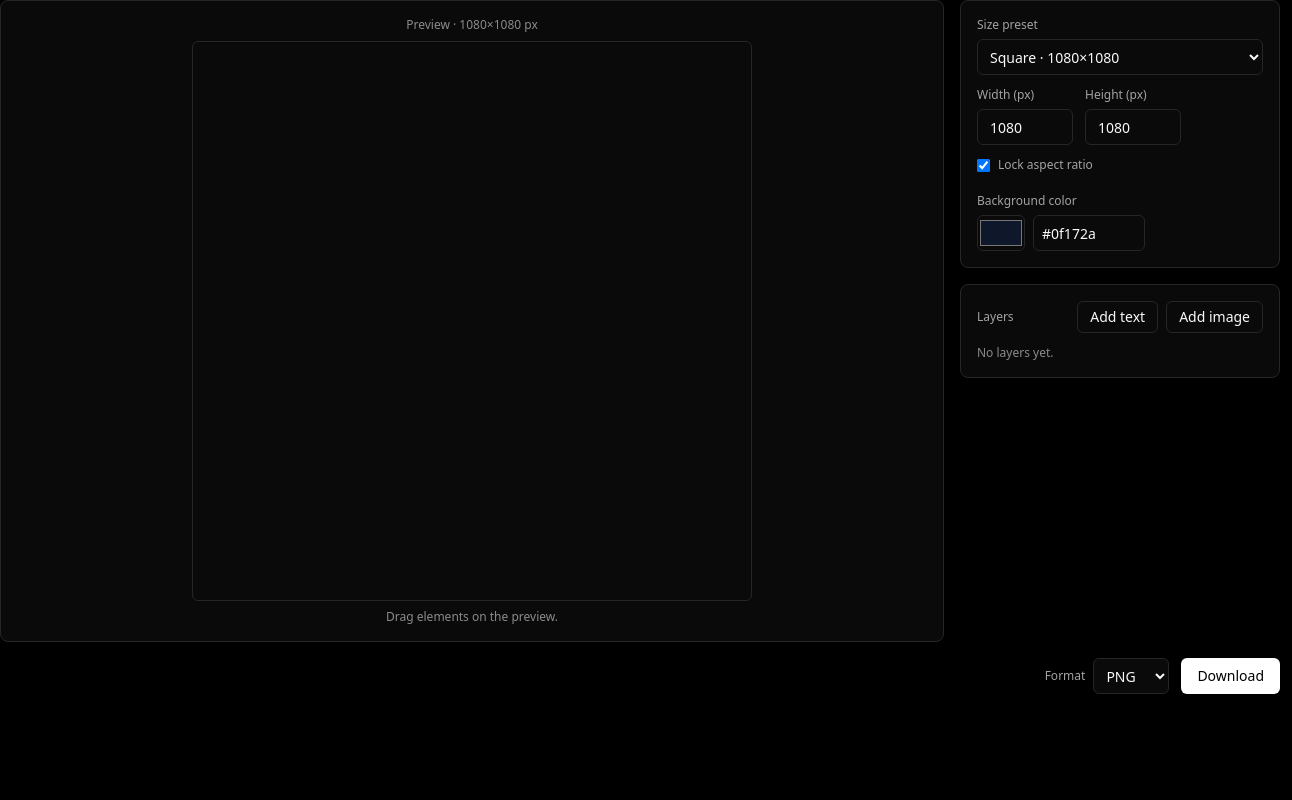
Test: BannerMakerTool › adds a text layer and edits its content
Click the button "Add text" at (1118, 317), box [1077, 301, 1158, 333]
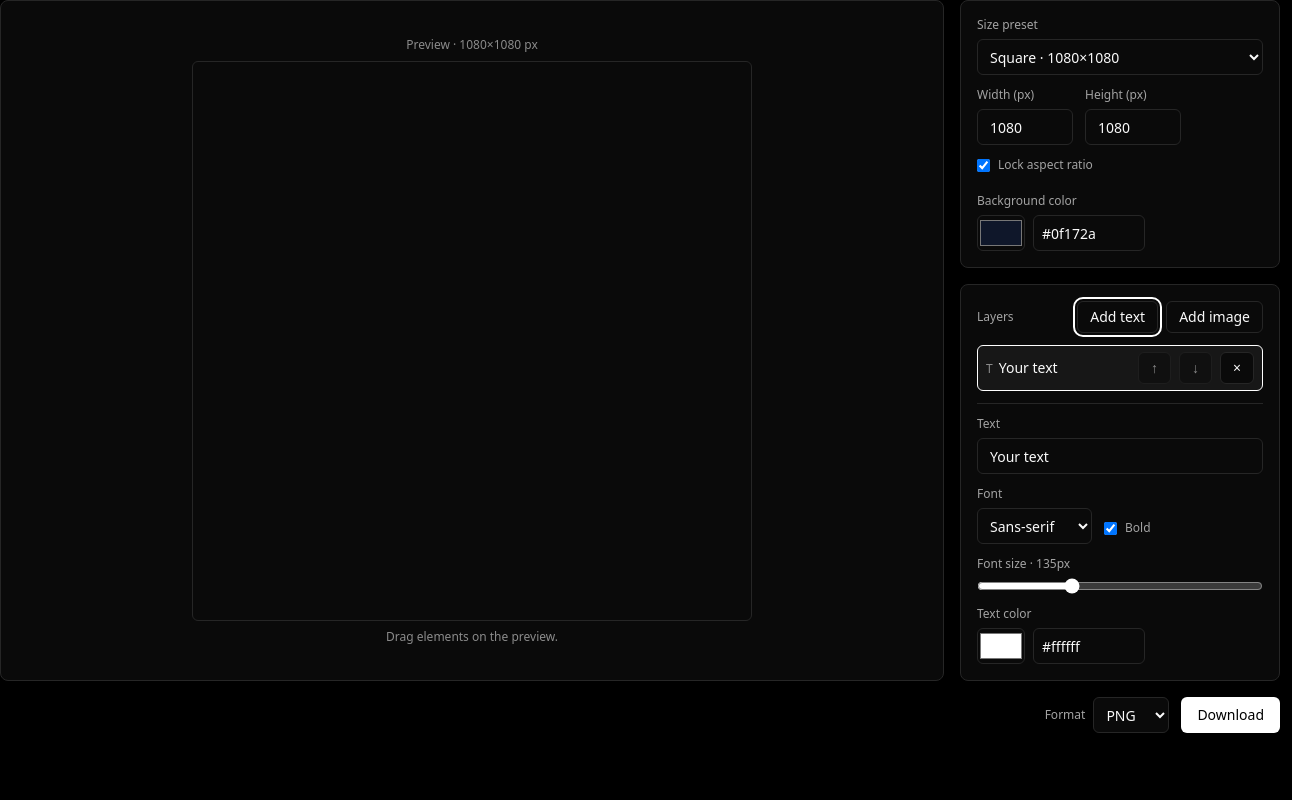
Now the button "Your text" is shown, box [986, 358, 1130, 378]
Now the field labelled "Text" holds "Your text"
Replace the text in the field labelled "Text" with "Big sale" at (1120, 456), box [977, 438, 1263, 474]
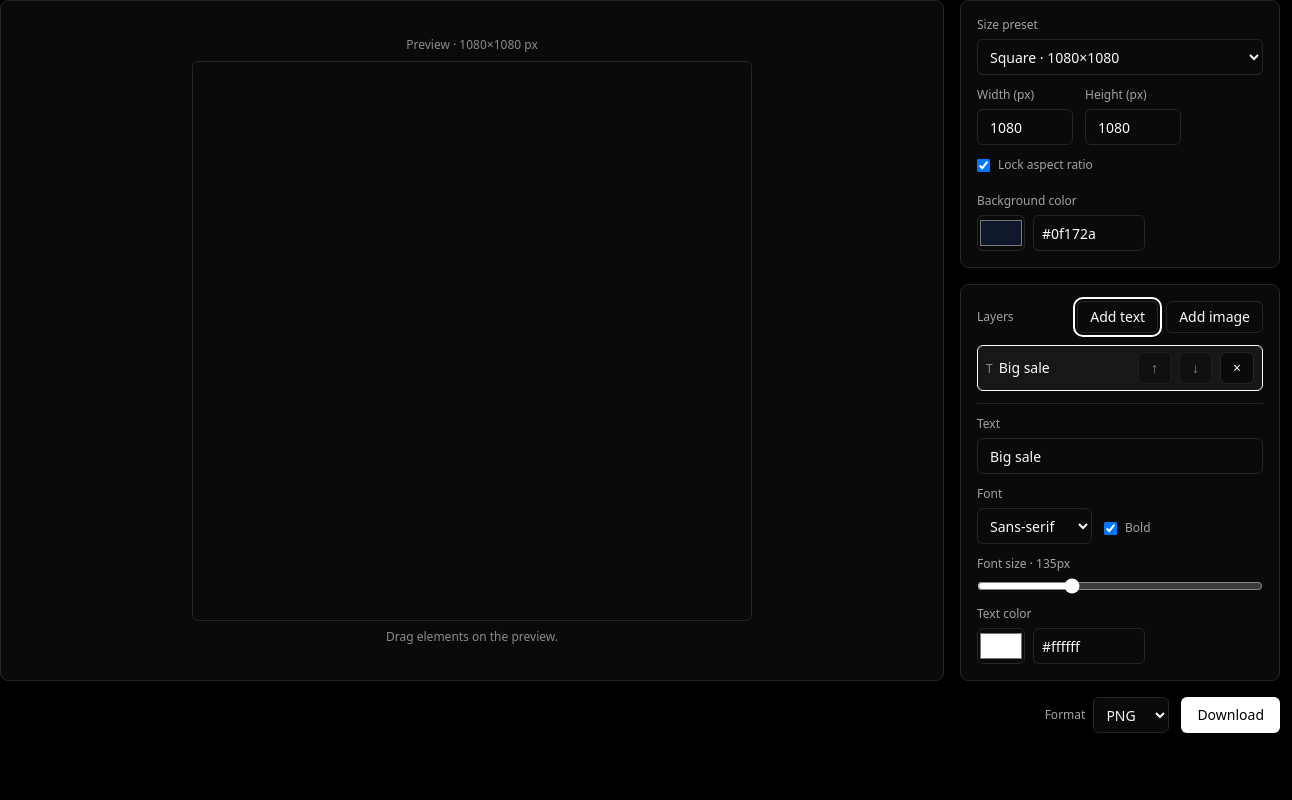
Now the button "Big sale" is shown, box [986, 358, 1130, 378]
